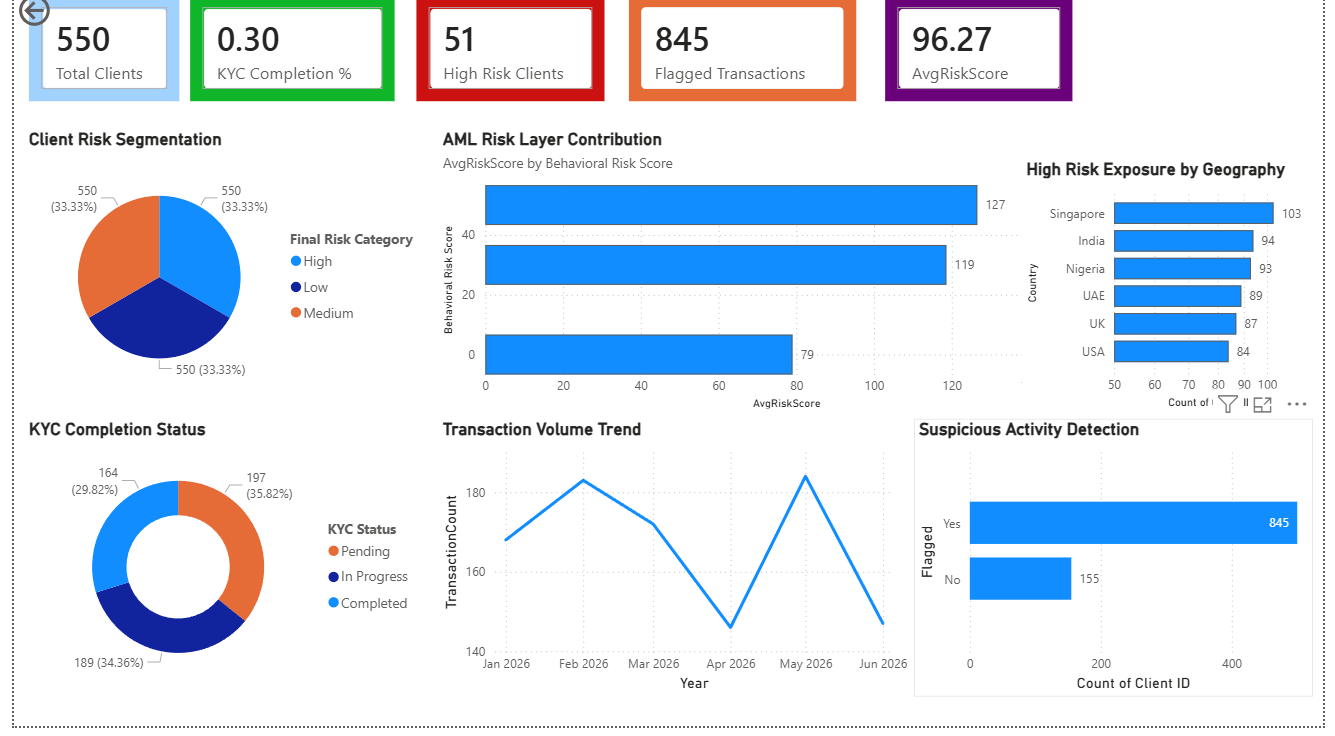

The page's visual inventory and layout, read from the dashboard file:
{"tool":"powerbi","page":{"name":"Page 1","canvas":[1280,720],"ordinal":0},"visuals":[{"type":"cardVisual","title":"Total Clients","fields":{"Data":["Client Master Data.Total Clients"]},"box":[9.8,0,157.7,114.9],"z":0},{"type":"cardVisual","fields":{"Data":["Client Master Data.KYC Completion %"]},"box":[167.5,0,210.3,114.9],"z":1000},{"type":"cardVisual","fields":{"Data":["Client Master Data.High Risk Clients"]},"box":[388.9,0,194.4,114.9],"z":2000},{"type":"cardVisual","fields":{"Data":["Client Master Data.Flagged Transactions"]},"box":[596.7,0,232.3,114.9],"z":3000},{"type":"cardVisual","fields":{"Data":["Client Master Data.AvgRiskScore"]},"box":[847.4,0,193.2,114.9],"z":4000},{"type":"pieChart","title":"Client Risk Segmentation","fields":{"Y":["CountNonNull(Client Master Data.Client ID)"],"Category":["Transaction Data.Final Risk Category"]},"box":[9.8,135.7,390.1,271.5],"z":5000},{"type":"barChart","title":"AML Risk Layer Contribution","fields":{"Y":["Client Master Data.AvgRiskScore"],"Category":["Transaction Data.Transaction Risk Score","Client Master Data.Customer Risk Score","Client Master Data.Geographic Risk Score","Transaction Data.Behavioral Risk Score"]},"box":[414.5,135.7,651.8,278.8],"z":6000},{"type":"clusteredBarChart","title":"High Risk Exposure by Geography","fields":{"Category":["Client Master Data.Country"],"Y":["CountNonNull(Client Master Data.Client ID)"]},"box":[985.6,165.1,294.7,249.5],"z":7000},{"type":"actionButton","box":[0,0,100,40],"z":8000},{"type":"donutChart","title":"KYC Completion Status","fields":{"Category":["KYC Tracker.KYC Status"],"Y":["CountNonNull(KYC Tracker.Client ID)"]},"box":[10,419.5,390,271],"z":9000},{"type":"lineChart","title":"Transaction Volume Trend","fields":{"Y":["Client Master Data.TransactionCount"],"Category":["Transaction Data.Date.Variation.Date Hierarchy.Year","Transaction Data.Date.Variation.Date Hierarchy.Month"]},"box":[414.5,419.4,464.7,271.5],"z":10000},{"type":"clusteredBarChart","title":"Suspicious Activity Detection","fields":{"Category":["Transaction Data.Flagged"],"Y":["CountNonNull(Transaction Data.Client ID)"]},"box":[880.4,419.4,390.1,271.5],"z":11000}]}

Visuals, with their boxes in screenshot pixels (x1, y1, x2, y2), scaled from the page's 1280x720 canvas onto the 1335x736 screenshot:
"Total Clients" cardVisual: (10,0,175,117)
cardVisual - Client Master Data.KYC Completion %: (175,0,394,117)
cardVisual - Client Master Data.High Risk Clients: (406,0,608,117)
cardVisual - Client Master Data.Flagged Transactions: (622,0,865,117)
cardVisual - Client Master Data.AvgRiskScore: (884,0,1085,117)
"Client Risk Segmentation" pieChart: (10,139,417,416)
"AML Risk Layer Contribution" barChart: (432,139,1112,424)
"High Risk Exposure by Geography" clusteredBarChart: (1028,169,1334,424)
actionButton: (0,0,104,41)
"KYC Completion Status" donutChart: (10,429,417,706)
"Transaction Volume Trend" lineChart: (432,429,917,706)
"Suspicious Activity Detection" clusteredBarChart: (918,429,1325,706)
